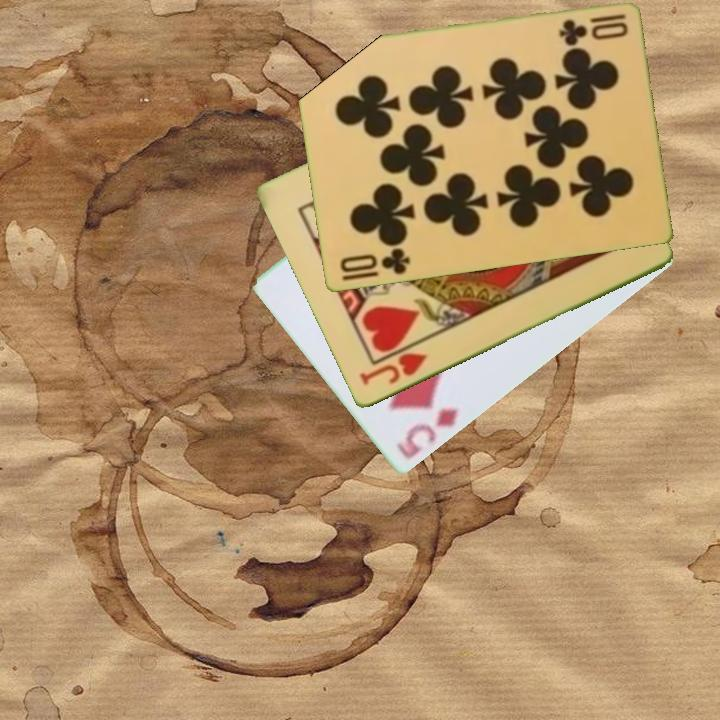10c: (336, 245, 413, 285), (555, 11, 631, 47)
5d: (393, 404, 461, 463)
Jh: (355, 349, 430, 389)
